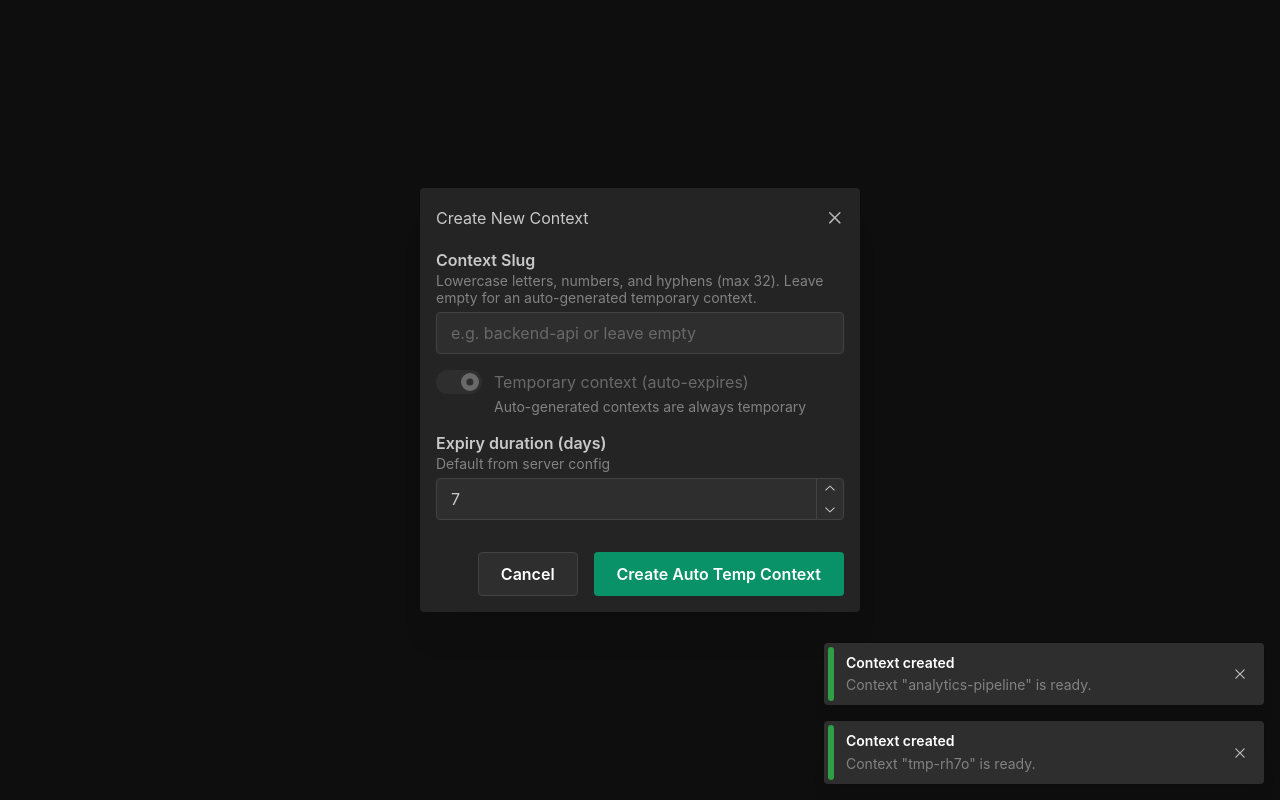
Contexts Feature › CreateContextModal flow › shows validation error for invalid slug
Step 1. Type "Invalid_Slug!" into the field labelled "Context Slug" → (640, 332), box [436,312,844,354]
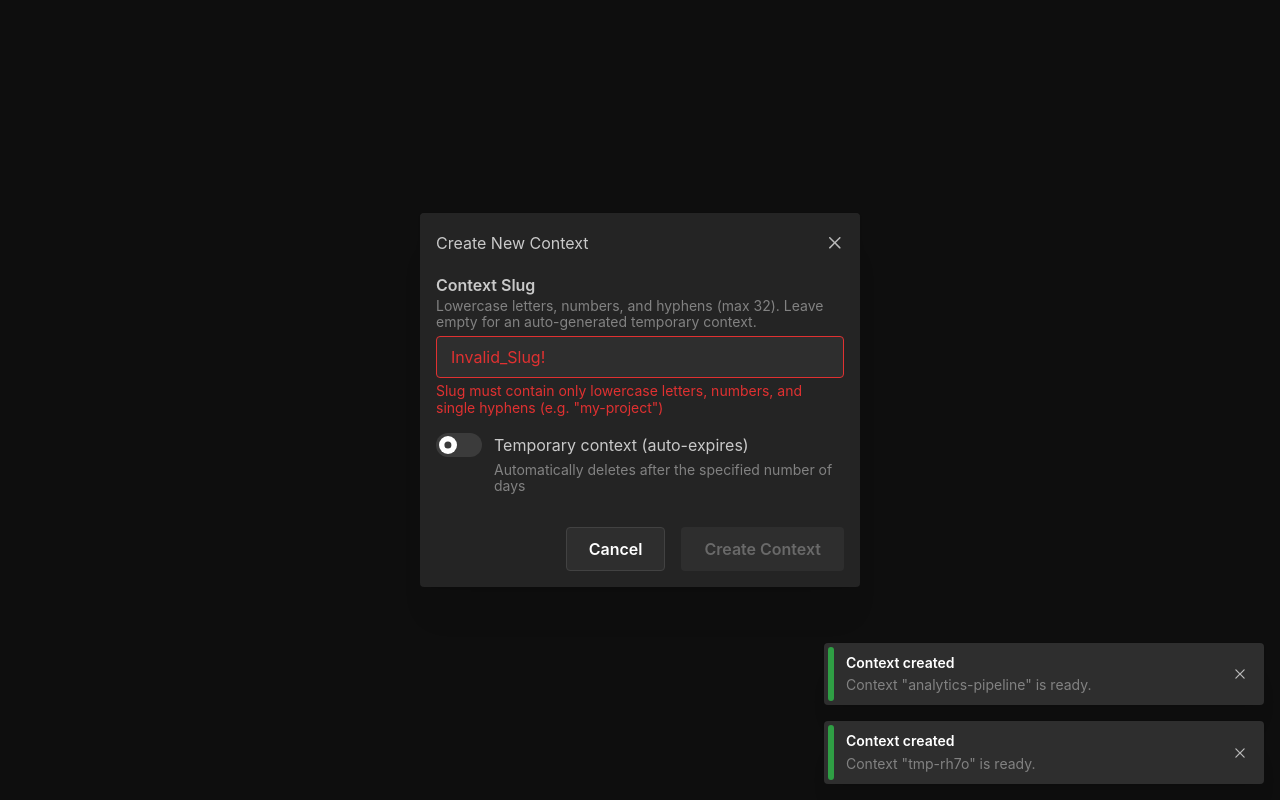
Result: the text "Slug must contain only lowercase letters" is shown at [436,382,802,416]
